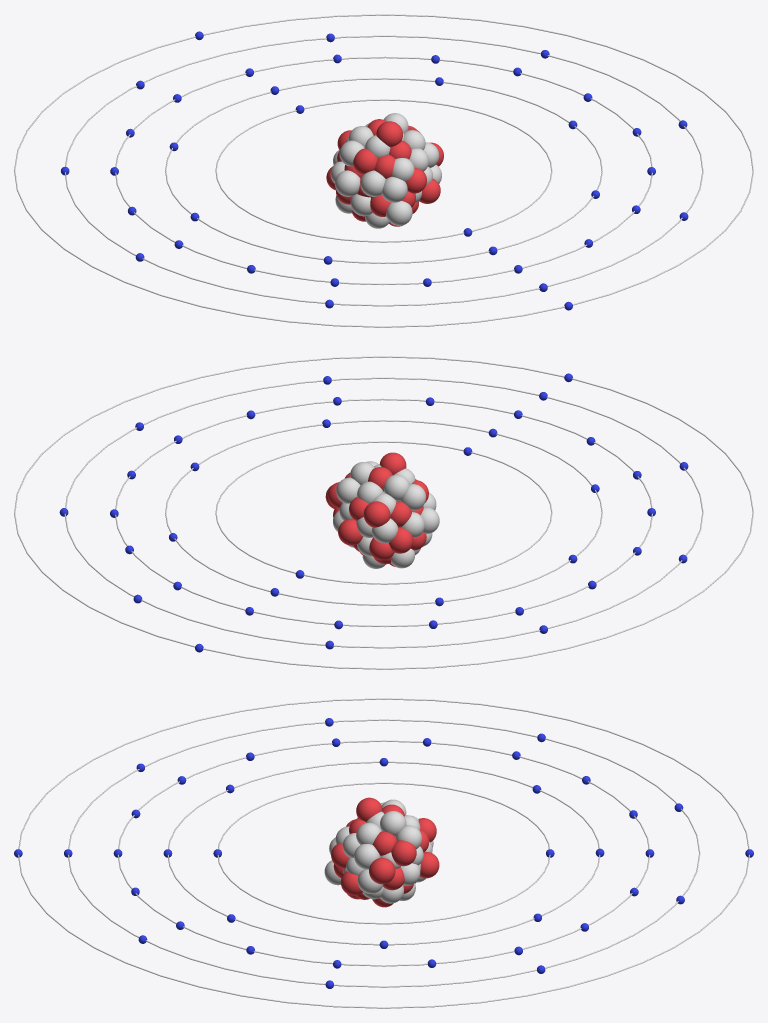
File: Yttrium.glb
3 renders of one model, top to bottom at view 1: azimuth 30°, elevation 25°; view 2: azimuth 150°, elevation 25°; view 3: azimuth 270°, elevation 25°, orthographic.
Visible parts, largest first — view 1: O-Schale, N-Schale, M-Schale, L-Schale, K-Schale, Neutron 44, Neutron 50, Neutron 42, Proton 39, Neutron 40; view 2: O-Schale, N-Schale, M-Schale, L-Schale, K-Schale, Proton 34; view 3: O-Schale, N-Schale, M-Schale, L-Schale, K-Schale, Proton 38, Proton 29.
Part boxes in pixels (x1,y1,x2,y2): O-Schale: [14, 14, 753, 327]; N-Schale: [64, 35, 703, 306]; M-Schale: [115, 56, 652, 285]; L-Schale: [165, 78, 602, 263]; K-Schale: [215, 99, 552, 242]; Neutron 44: [335, 170, 360, 196]; Neutron 50: [386, 201, 412, 225]; Neutron 42: [382, 176, 407, 202]; Proton 39: [376, 121, 402, 147]; Neutron 40: [360, 170, 385, 196]; O-Schale: [14, 356, 753, 669]; N-Schale: [64, 377, 703, 648]; M-Schale: [115, 398, 652, 627]; L-Schale: [165, 420, 602, 605]; K-Schale: [215, 441, 552, 584]; Proton 34: [363, 501, 390, 527]; O-Schale: [18, 698, 749, 1008]; N-Schale: [68, 719, 700, 987]; M-Schale: [117, 740, 650, 966]; L-Schale: [167, 761, 600, 945]; K-Schale: [217, 782, 550, 924]; Proton 38: [369, 857, 395, 884]; Proton 29: [391, 840, 416, 866].
Size of the model in its own units: 22.04 by 3.35 by 22.26.
